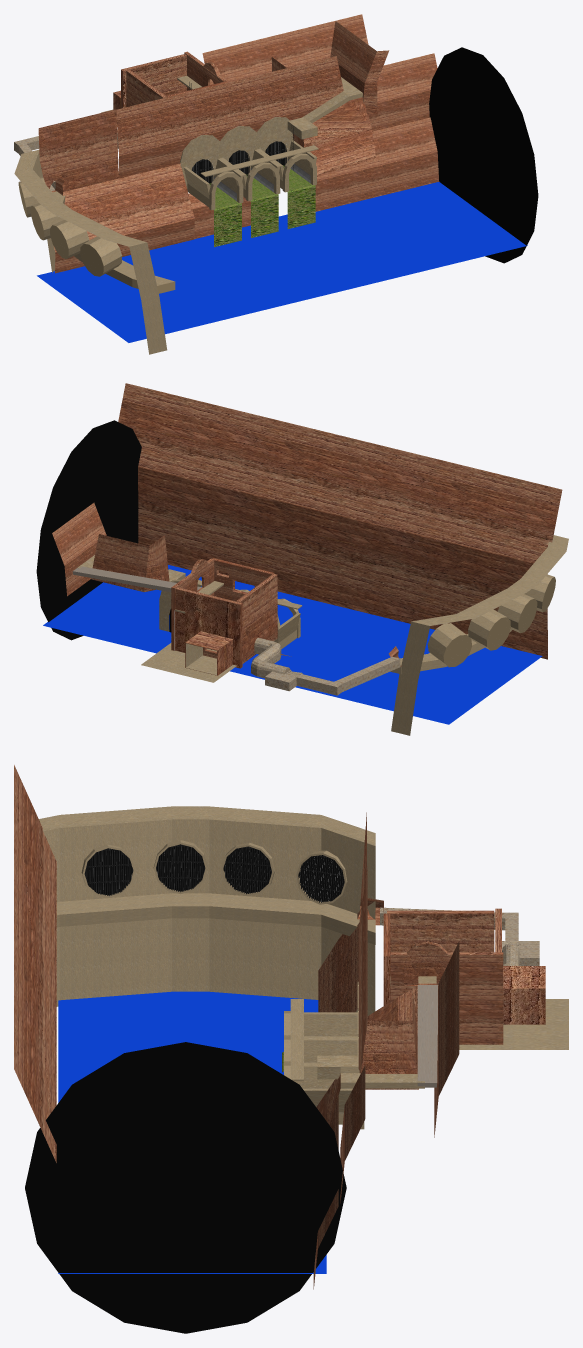
The model's file is dream2.glb.
The picture shows the model from 3 angles, top to bottom: view 1: azimuth 30°, elevation 25°; view 2: azimuth 150°, elevation 25°; view 3: azimuth 270°, elevation 25°; orthographic projection. The views are drawn at different scales.
Parts seen in each view (by area): view 1: Plane.012, Circle.004, Plane.014, Plane.006, Plane.015, Plane.008, Plane.018, Plane.011, Plane.019, Plane.017, Plane.010, Plane.005 (+23 smaller); view 2: Plane.013, Plane.012, Circle.004, Plane.015, rightWall, Plane.008, Plane.010, exitWall, room, Cube.009, Circle.003, exteriorWall (+9 smaller); view 3: Circle.004, Plane.015, Plane.012, Plane.013, Cube.006, exitWall, Plane.008, Plane.014, houseGround, room, Circle.001, Circle (+16 smaller).
Part boxes in pixels (x1,y1,x2,y2): Plane.012: (37, 182, 527, 342); Circle.004: (429, 47, 538, 263); Plane.014: (38, 109, 194, 273); Plane.006: (116, 82, 230, 178); Plane.015: (14, 149, 175, 354); Plane.008: (228, 56, 343, 131); Plane.018: (376, 117, 439, 194); Plane.011: (292, 97, 375, 176); Plane.019: (368, 53, 437, 131); Plane.017: (315, 131, 384, 211); Plane.010: (330, 21, 389, 114); Plane.005: (202, 34, 289, 84); Plane.013: (118, 383, 562, 659); Plane.012: (43, 564, 542, 724); Circle.004: (36, 420, 141, 640); Plane.015: (390, 535, 568, 735); rightWall: (175, 587, 242, 668); Plane.008: (90, 534, 169, 592); Plane.010: (52, 502, 106, 596); exitWall: (236, 573, 277, 663); room: (185, 631, 232, 675); Cube.009: (296, 656, 400, 695); Circle.003: (427, 623, 471, 667); exteriorWall: (212, 558, 274, 601); Circle.004: (25, 1042, 346, 1333); Plane.015: (39, 806, 375, 1015); Plane.012: (58, 991, 326, 1273); Plane.013: (14, 765, 56, 1162); Cube.006: (390, 952, 503, 1044); exitWall: (387, 910, 494, 1001); Plane.008: (358, 945, 418, 1089); Plane.014: (318, 812, 383, 1012); houseGround: (459, 999, 568, 1049); room: (503, 966, 545, 1024); Circle.001: (153, 840, 207, 894); Circle: (81, 844, 135, 897).
Bounding box in the file's own units: 115 × 48 × 82.74.
11 materials, 9 textured.
